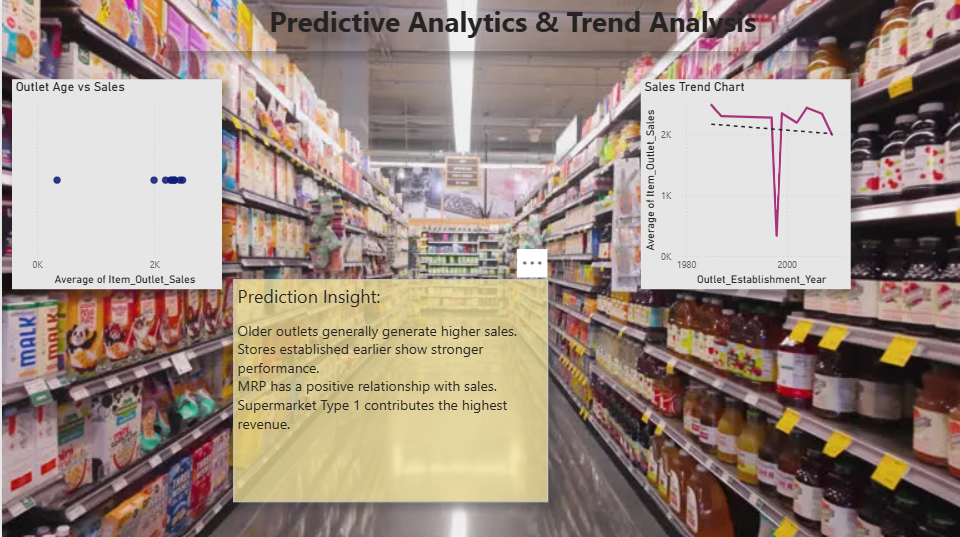

This screenshot's page, from the dashboard's own definition file:
{"tool":"powerbi","page":{"name":"Prediction Analysis","canvas":[1280,720],"ordinal":1},"visuals":[{"type":"lineChart","title":"Sales Trend Chart","fields":{"Category":["Train.Outlet_Establishment_Year"],"Y":["Avg(Train.Item_Outlet_Sales)"]},"box":[851.4,108.6,280,280],"z":0},{"type":"scatterChart","title":"Outlet Age vs Sales","fields":{"Category":["Train.Outlet_Age"],"X":["Avg(Train.Item_Outlet_Sales)"]},"box":[12.9,108.6,280,280],"z":1},{"type":"textbox","box":[308.6,375.7,420,297.1],"z":2},{"type":"textbox","box":[217.1,0,928.6,70],"z":3}]}

Visuals, with their boxes in screenshot pixels (x1, y1, x2, y2), scaled from the page's 1280x720 canvas onto the 960x537 screenshot:
"Sales Trend Chart" lineChart: <box>639,81,849,290</box>
"Outlet Age vs Sales" scatterChart: <box>10,81,220,290</box>
textbox: <box>231,280,546,502</box>
textbox: <box>163,0,859,52</box>
